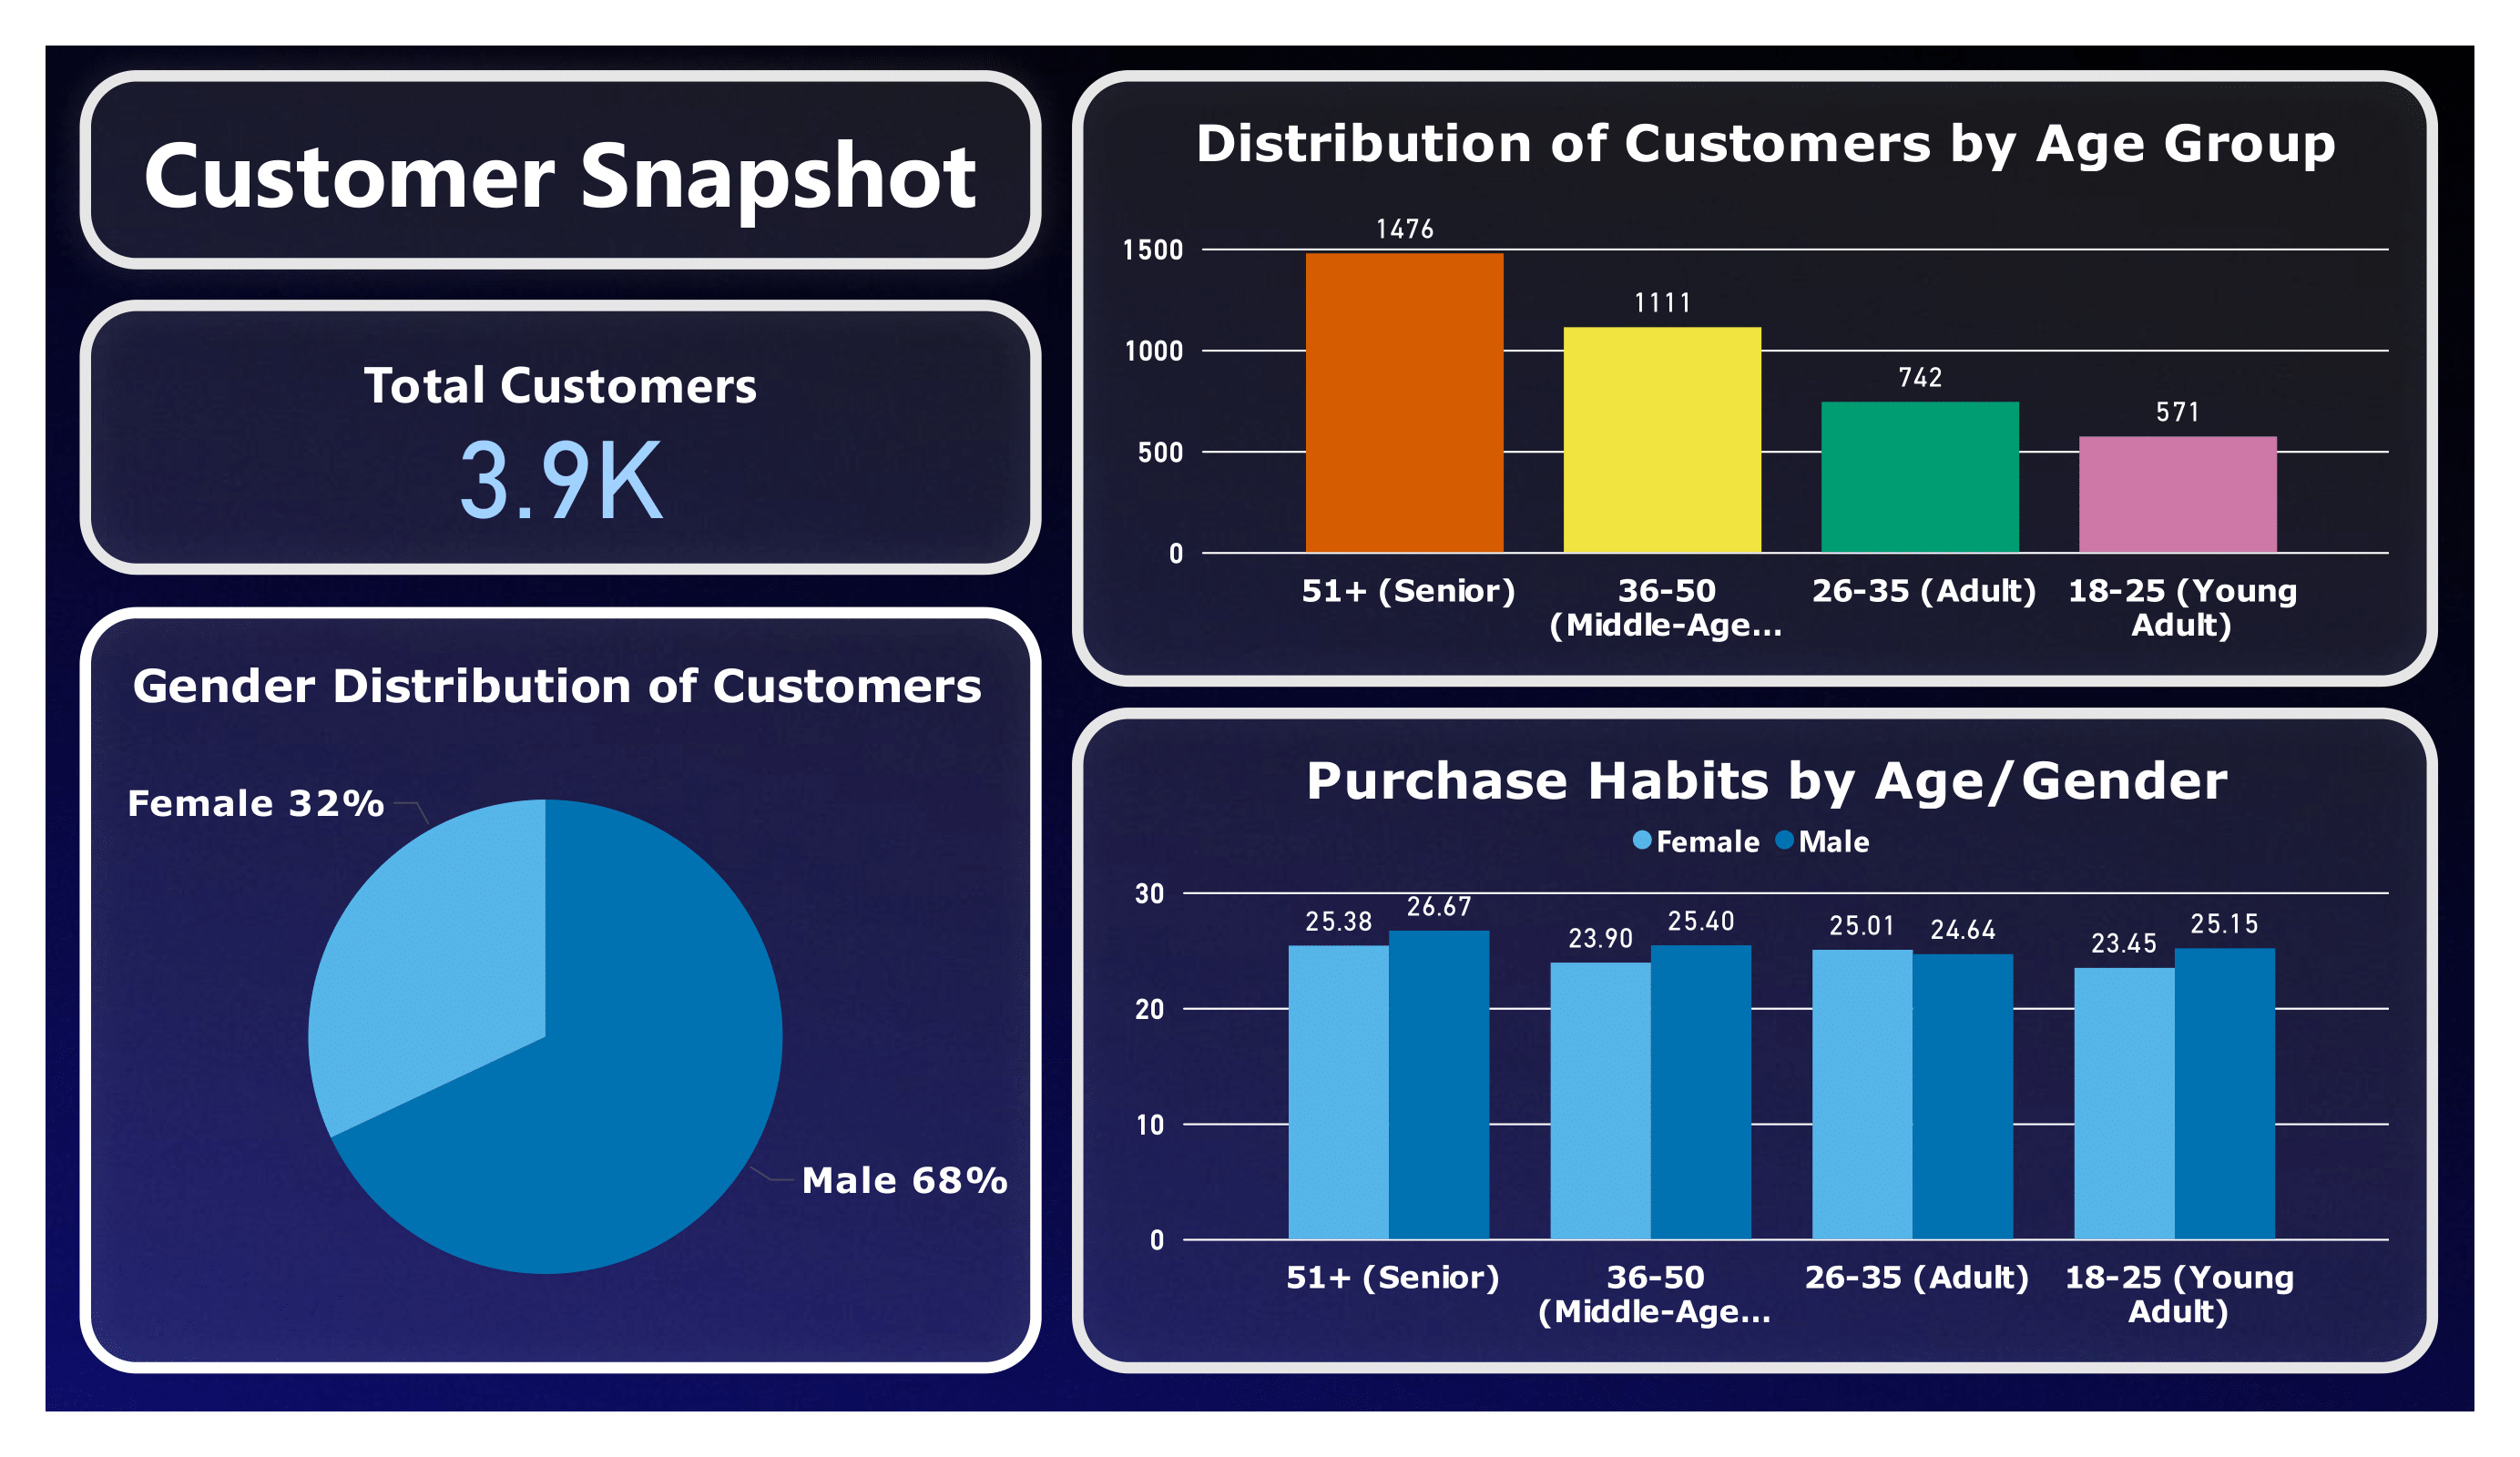

Layout of this report page (visuals, bound fields, positions):
{"tool":"powerbi","page":{"name":"Customer Snapshot","canvas":[1280,720],"ordinal":0},"visuals":[{"type":"textbox","box":[17.7,12.9,507.2,104.7],"z":0},{"type":"cardVisual","fields":{"Data":["public shopping_trend.Total Customers"]},"box":[17.7,133.6,507.2,144.9],"z":1000},{"type":"pieChart","title":"Gender Distribution of Customers","fields":{"Category":["public shopping_trend.gender"],"Y":["public shopping_trend.Total Customers"]},"box":[17.7,296.3,507.2,404.1],"z":2000},{"type":"columnChart","title":"Distribution of Customers by Age Group","fields":{"Category":["public shopping_trend.age_group"],"Y":["public shopping_trend.Total Customers"]},"box":[541,12.9,719.7,325.2],"z":3000},{"type":"clusteredColumnChart","title":"Purchase Habits by Age/Gender","fields":{"Category":["public shopping_trend.age_group"],"Y":["public shopping_trend.Average Previous Purchase"],"Series":["public shopping_trend.gender"]},"box":[541,349.4,719.7,351],"z":4000}]}

Visuals, with their boxes in screenshot pixels (x1, y1, x2, y2):
textbox: bbox=[79, 70, 1042, 269]
cardVisual - public shopping_trend.Total Customers: bbox=[79, 299, 1042, 574]
"Gender Distribution of Customers" pieChart: bbox=[79, 607, 1042, 1374]
"Distribution of Customers by Age Group" columnChart: bbox=[1072, 70, 2438, 687]
"Purchase Habits by Age/Gender" clusteredColumnChart: bbox=[1072, 708, 2438, 1374]
